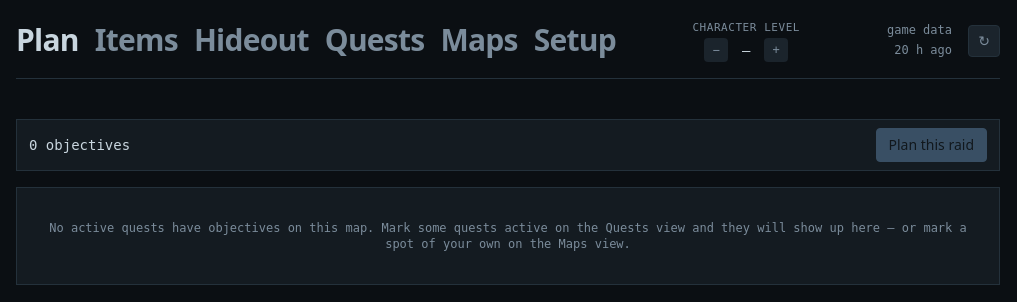
it: the navigation › moves between views
Click the button "quests": (375, 40) [325,18,424,62]
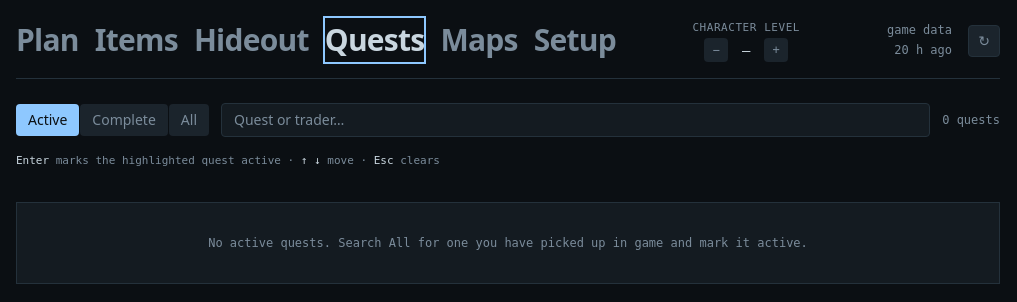
Expected: the dropdown is shown, [221,103,930,137]
